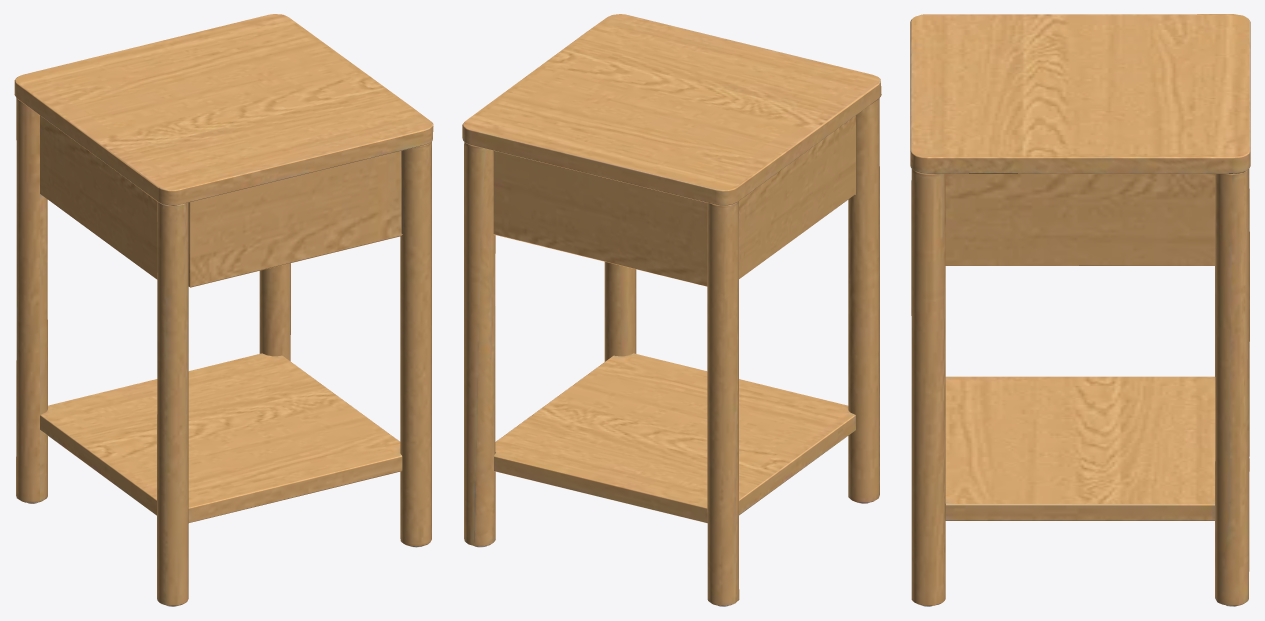
Rendered from LB-BR-NIGHTSTAND-02.glb.
3 renders of one model, left to right at view 1: azimuth 30°, elevation 25°; view 2: azimuth 150°, elevation 25°; view 3: azimuth 270°, elevation 25°, orthographic. The views are drawn at different scales.
Visible parts, largest first — view 1: ASY_ART_80489322_S01_NV01; view 2: ASY_ART_80489322_S01_NV01; view 3: ASY_ART_80489322_S01_NV01.
Part boxes in pixels (<box>): ASY_ART_80489322_S01_NV01: <box>14,14,433,606</box>; ASY_ART_80489322_S01_NV01: <box>462,14,881,606</box>; ASY_ART_80489322_S01_NV01: <box>910,14,1250,606</box>.
Size of the model in its own units: 0.401 by 0.5901 by 0.401.
1 material, 1 textured.
